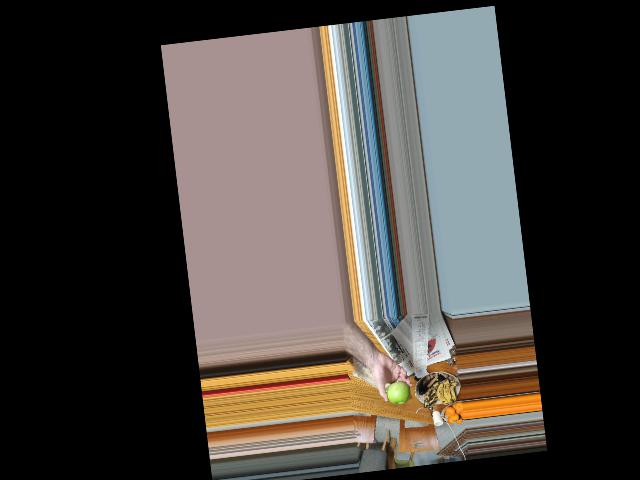apple: (383, 378, 412, 408)
